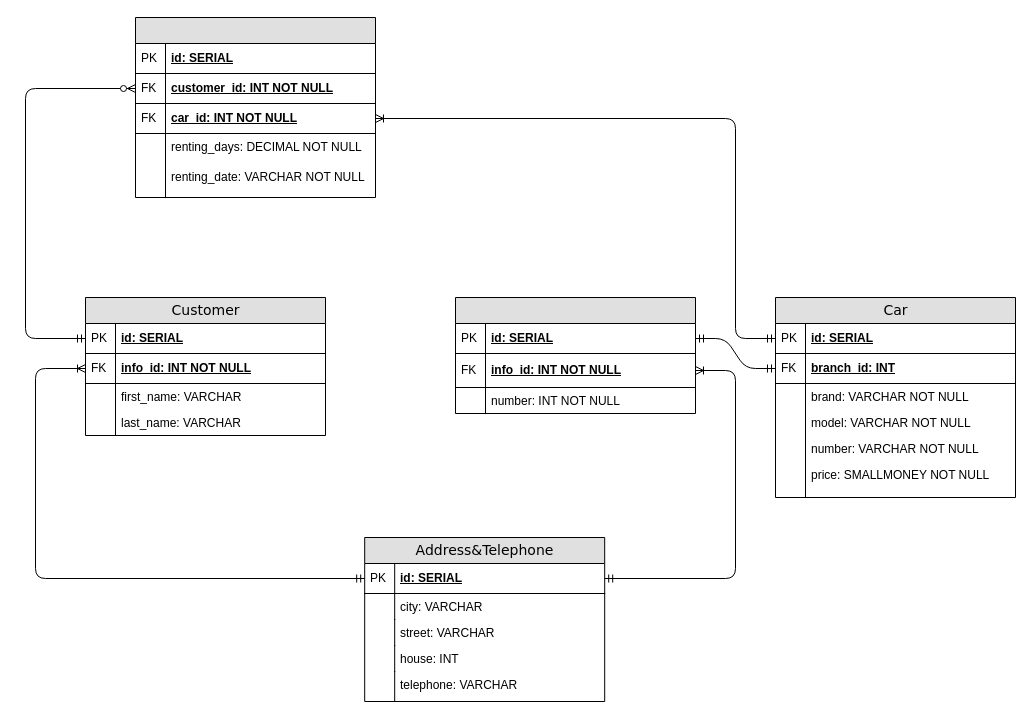
Some shapes in this 1033 by 722 pixel diagram are drawn without their labels. Here are the shapes that lost their labels. From the top down, the box of each, then its label:
(134, 16, 376, 198): Order
(454, 296, 696, 414): Branch
